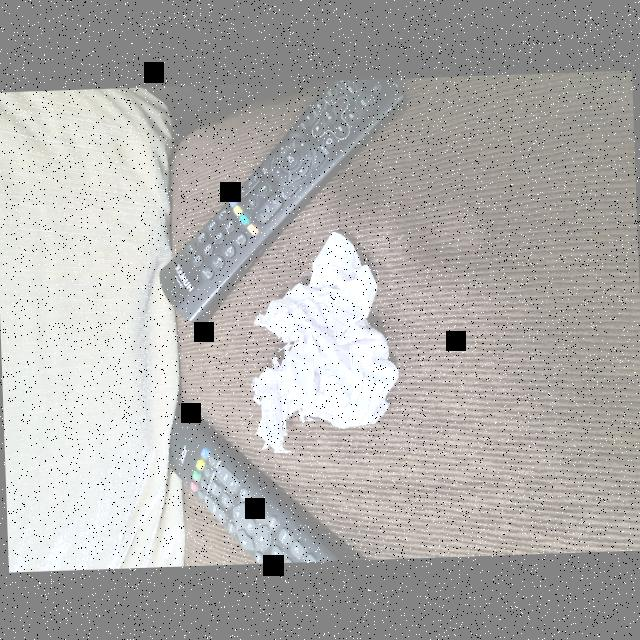scrap_paper: (250, 236, 390, 460)
